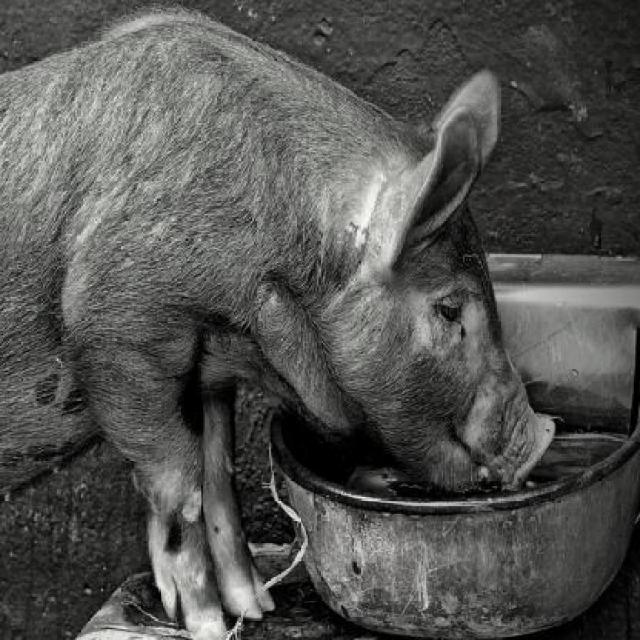Boar: (0, 1, 555, 640)
